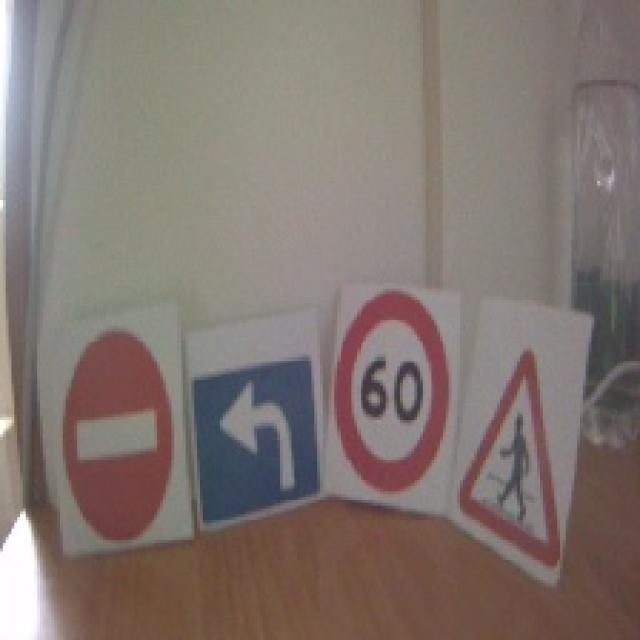DoNotEnterSign: (62, 327, 176, 547)
